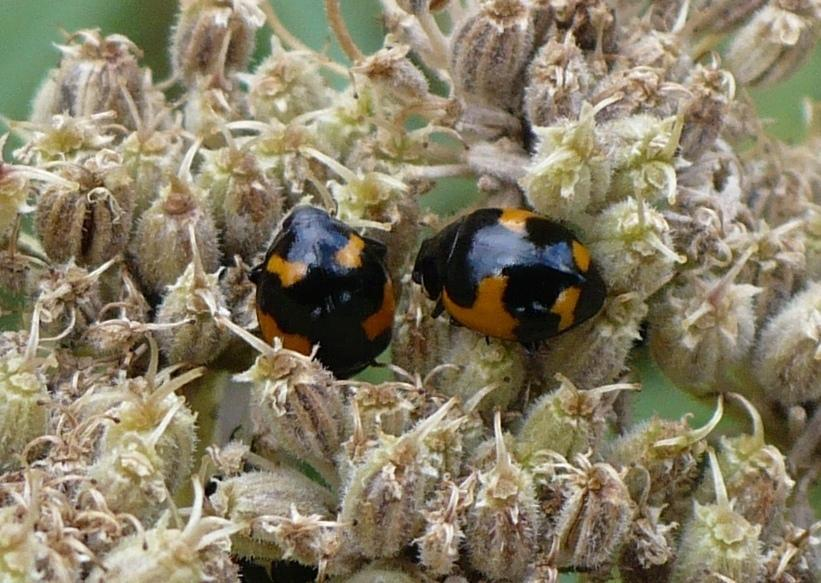ladybug: (411, 206, 611, 358), (248, 203, 401, 384)
